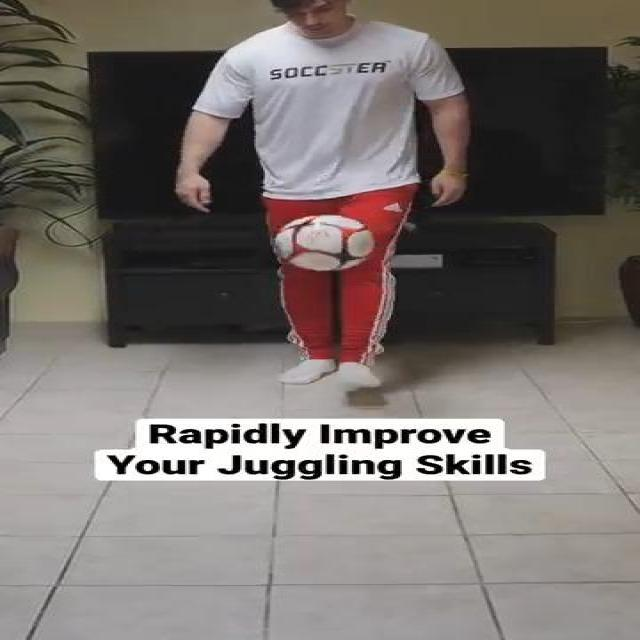Soccer Ball: (272, 214, 375, 272)
